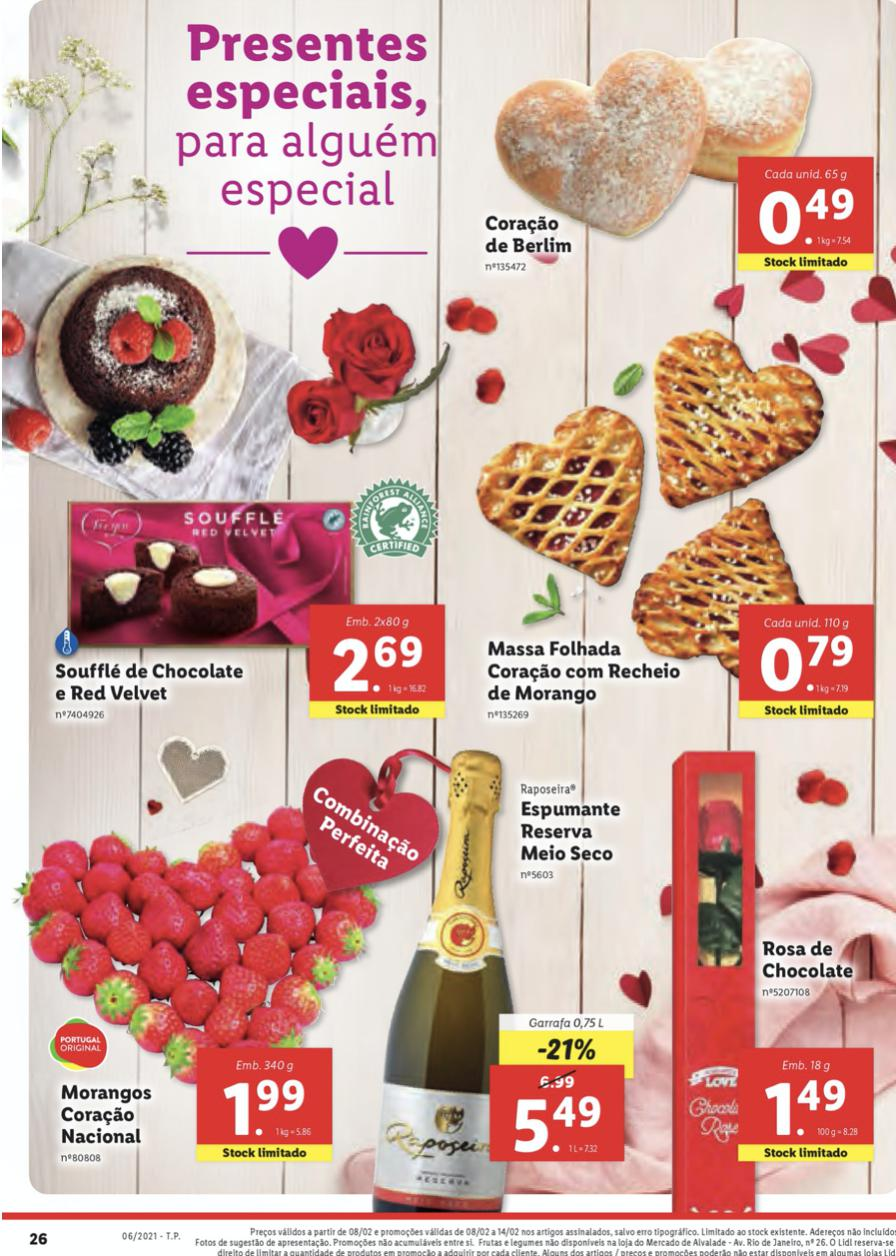name: (482, 635, 687, 704), (523, 797, 629, 877), (48, 663, 249, 704), (57, 1079, 157, 1146), (480, 207, 577, 261), (760, 936, 857, 983)
price: (751, 183, 858, 247), (330, 629, 429, 696), (221, 1071, 315, 1141), (508, 1091, 608, 1155), (769, 1075, 851, 1146), (757, 632, 860, 688)
product: (477, 310, 891, 732), (30, 763, 385, 1180), (369, 733, 663, 1199), (24, 468, 454, 729), (643, 744, 877, 1193), (474, 25, 894, 272)
promotion: (533, 1035, 602, 1064)
